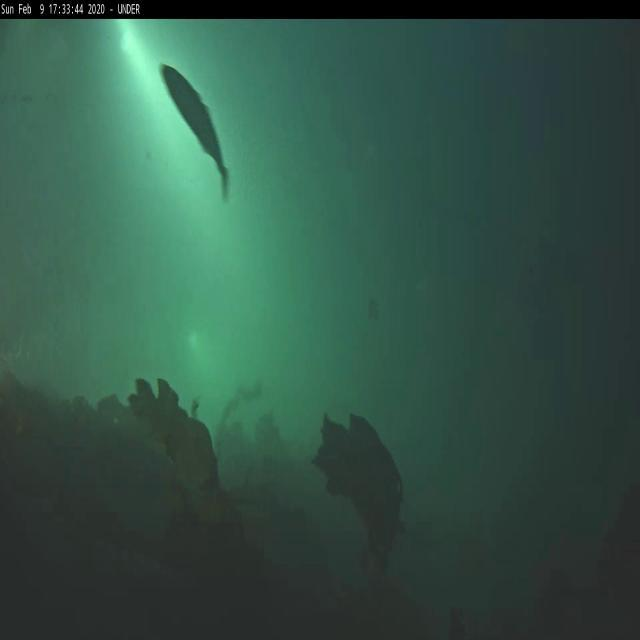fish: (159, 64, 232, 210)
